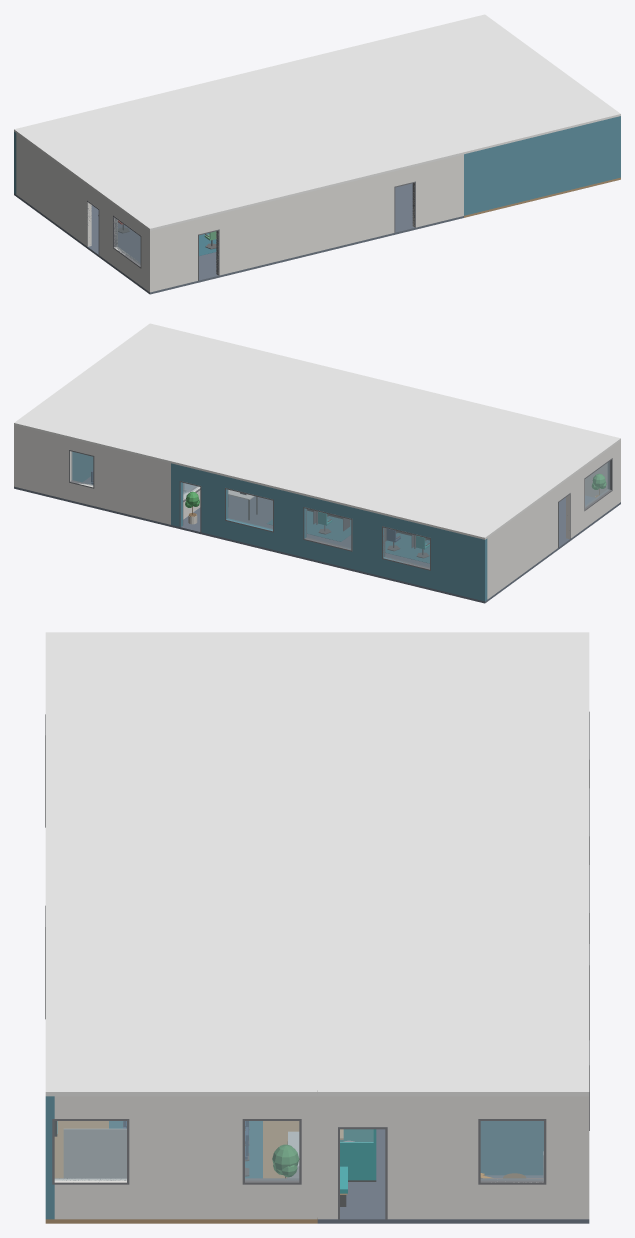
Rendered from demo_floor.glb.
The picture shows the model from 3 angles, top to bottom: view 1: azimuth 30°, elevation 25°; view 2: azimuth 150°, elevation 25°; view 3: azimuth 270°, elevation 25°; orthographic projection. The views are drawn at different scales.
Parts seen in each view (by area): view 1: T00_Ceiling, T00_Wall_S, T01_Ceiling, T02_Ceiling, T01_Wall_N, T00_Wall_W, T00_Floor, T00_Frames_W, T00_Frames_S, T01_Floor; view 2: T00_Ceiling, T00_Wall_N, T02_Ceiling, T01_Ceiling, T02_Wall_N, T00_Wall_W, T00_Frames_N, T00_Floor, T00_Frames_W, T02_Frames_N, T00_Rug.003, T00_Rug.001 (+3 smaller); view 3: T00_Ceiling, T01_Ceiling, T02_Ceiling, T01_Wall_W, T02_Wall_E, T01_Frames_W, T02_Frames_E, T02_Floor, T02_Divider_B, T01_Floor, T01_Whiteboard_W, T02_PhoneBooth_02 (+5 smaller).
Part boxes in pixels (box(x1,y1,x2,y2)): T00_Ceiling: box(14, 53, 463, 230); T00_Wall_S: box(147, 154, 463, 292); T01_Ceiling: box(396, 64, 620, 154); T02_Ceiling: box(328, 14, 552, 102); T01_Wall_N: box(464, 116, 620, 215); T00_Wall_W: box(16, 133, 147, 290); T00_Floor: box(14, 183, 463, 294); T00_Frames_W: box(87, 200, 141, 268); T00_Frames_S: box(198, 181, 415, 280); T01_Floor: box(464, 177, 620, 217); T00_Ceiling: box(171, 362, 620, 539); T00_Wall_N: box(171, 463, 487, 601); T02_Ceiling: box(14, 373, 238, 463); T01_Ceiling: box(82, 323, 306, 411); T02_Wall_N: box(14, 425, 170, 524); T00_Wall_W: box(487, 442, 618, 599); T00_Frames_N: box(179, 481, 430, 570); T00_Floor: box(171, 495, 620, 603); T00_Frames_W: box(558, 458, 612, 547); T02_Frames_N: box(69, 449, 94, 488); T00_Rug.003: box(267, 510, 351, 541); T00_Rug.001: box(385, 533, 429, 563); T00_Ceiling: box(45, 632, 589, 938); T01_Ceiling: box(45, 939, 317, 1096); T02_Ceiling: box(317, 939, 589, 1096); T01_Wall_W: box(54, 1096, 308, 1219); T02_Wall_E: box(326, 1096, 580, 1219); T01_Frames_W: box(52, 1119, 301, 1184); T02_Frames_E: box(338, 1119, 546, 1219); T02_Floor: box(317, 1129, 589, 1223); T02_Divider_B: box(480, 1121, 543, 1175); T01_Floor: box(45, 1121, 317, 1223); T01_Whiteboard_W: box(63, 1128, 126, 1178); T02_PhoneBooth_02: box(340, 1129, 376, 1181).
Bounding box in the file's own units: 24.02 × 3.2 × 12.02.
